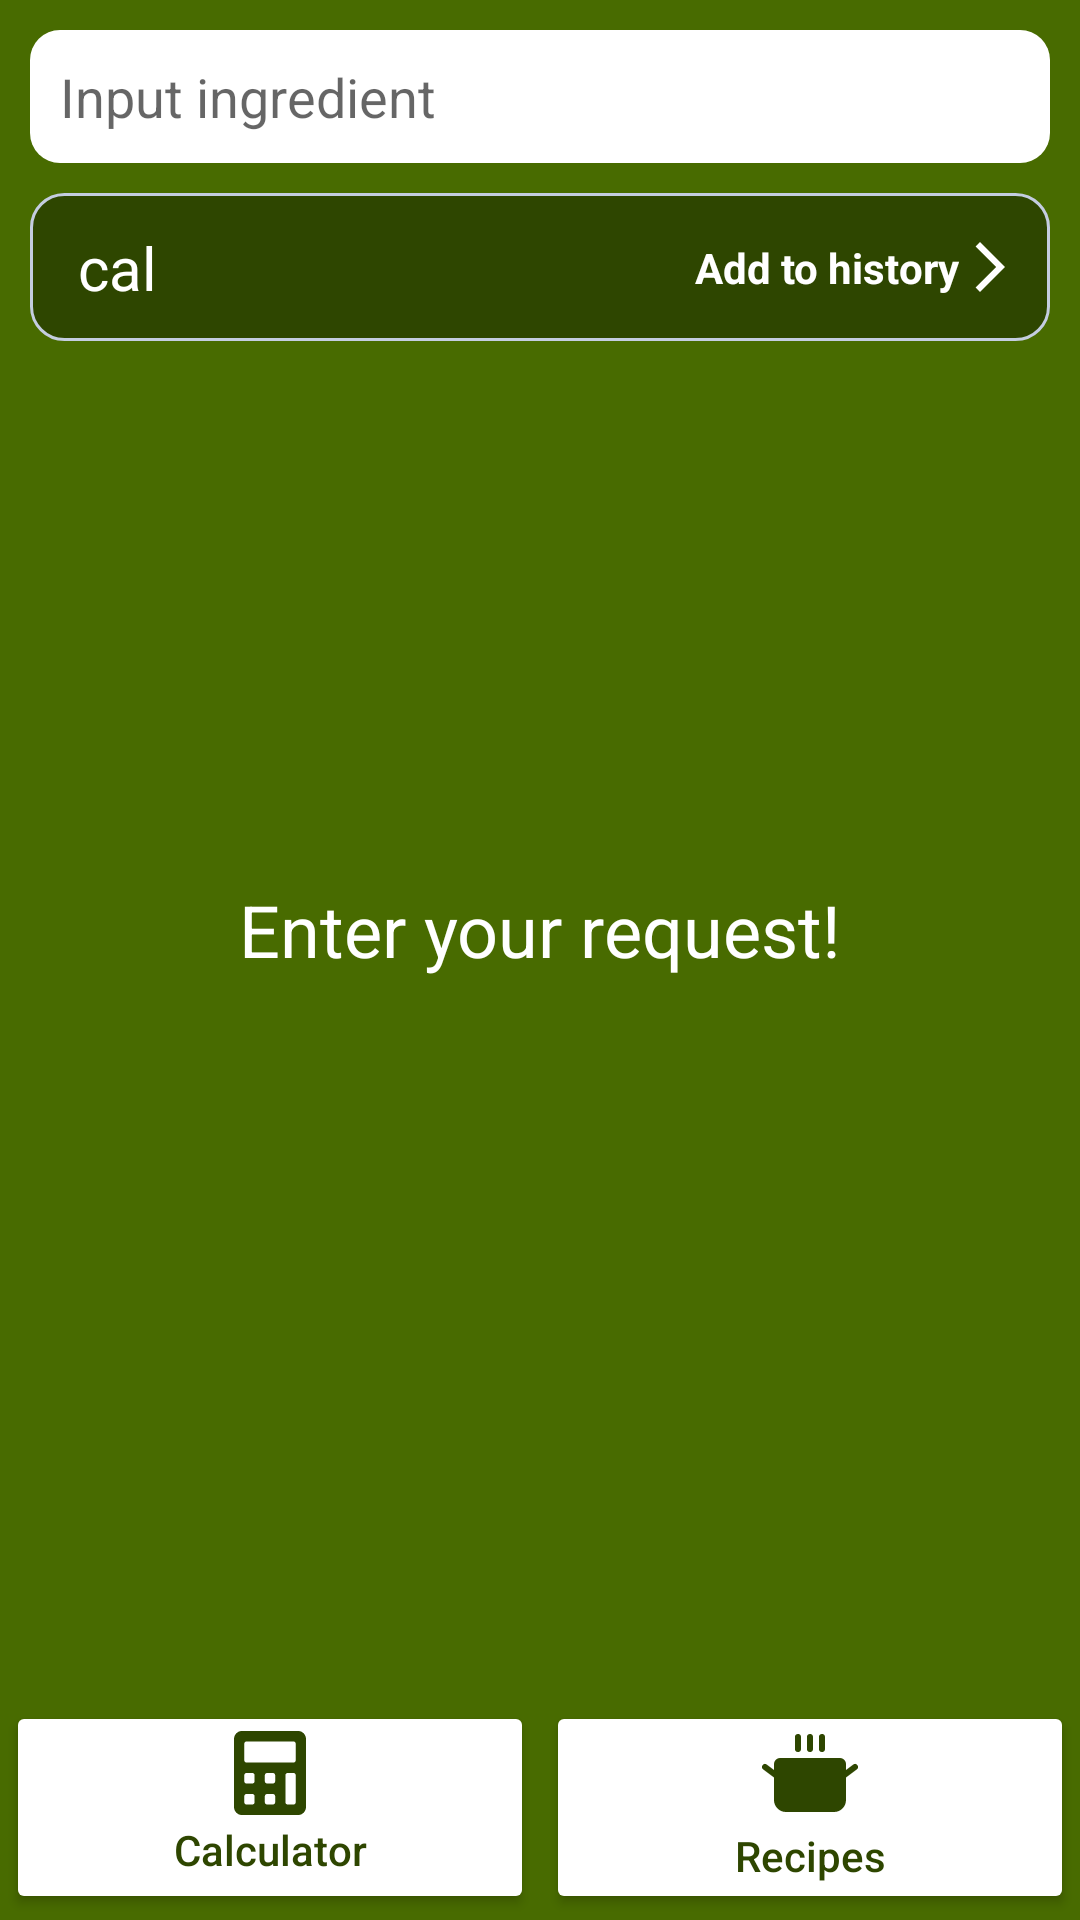

Point at icon controls on the screen. Image size 1080w x 1920h, points as point (x, y).
arrow forward: point (990, 267)
